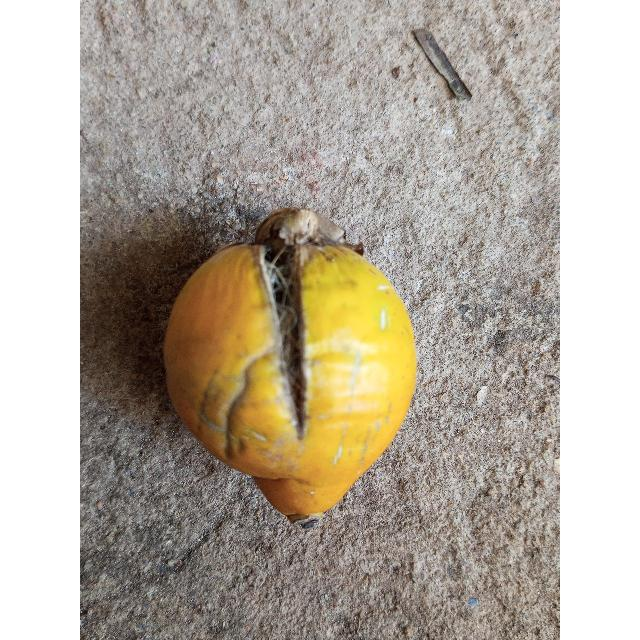damaged: (164, 207, 416, 528)
